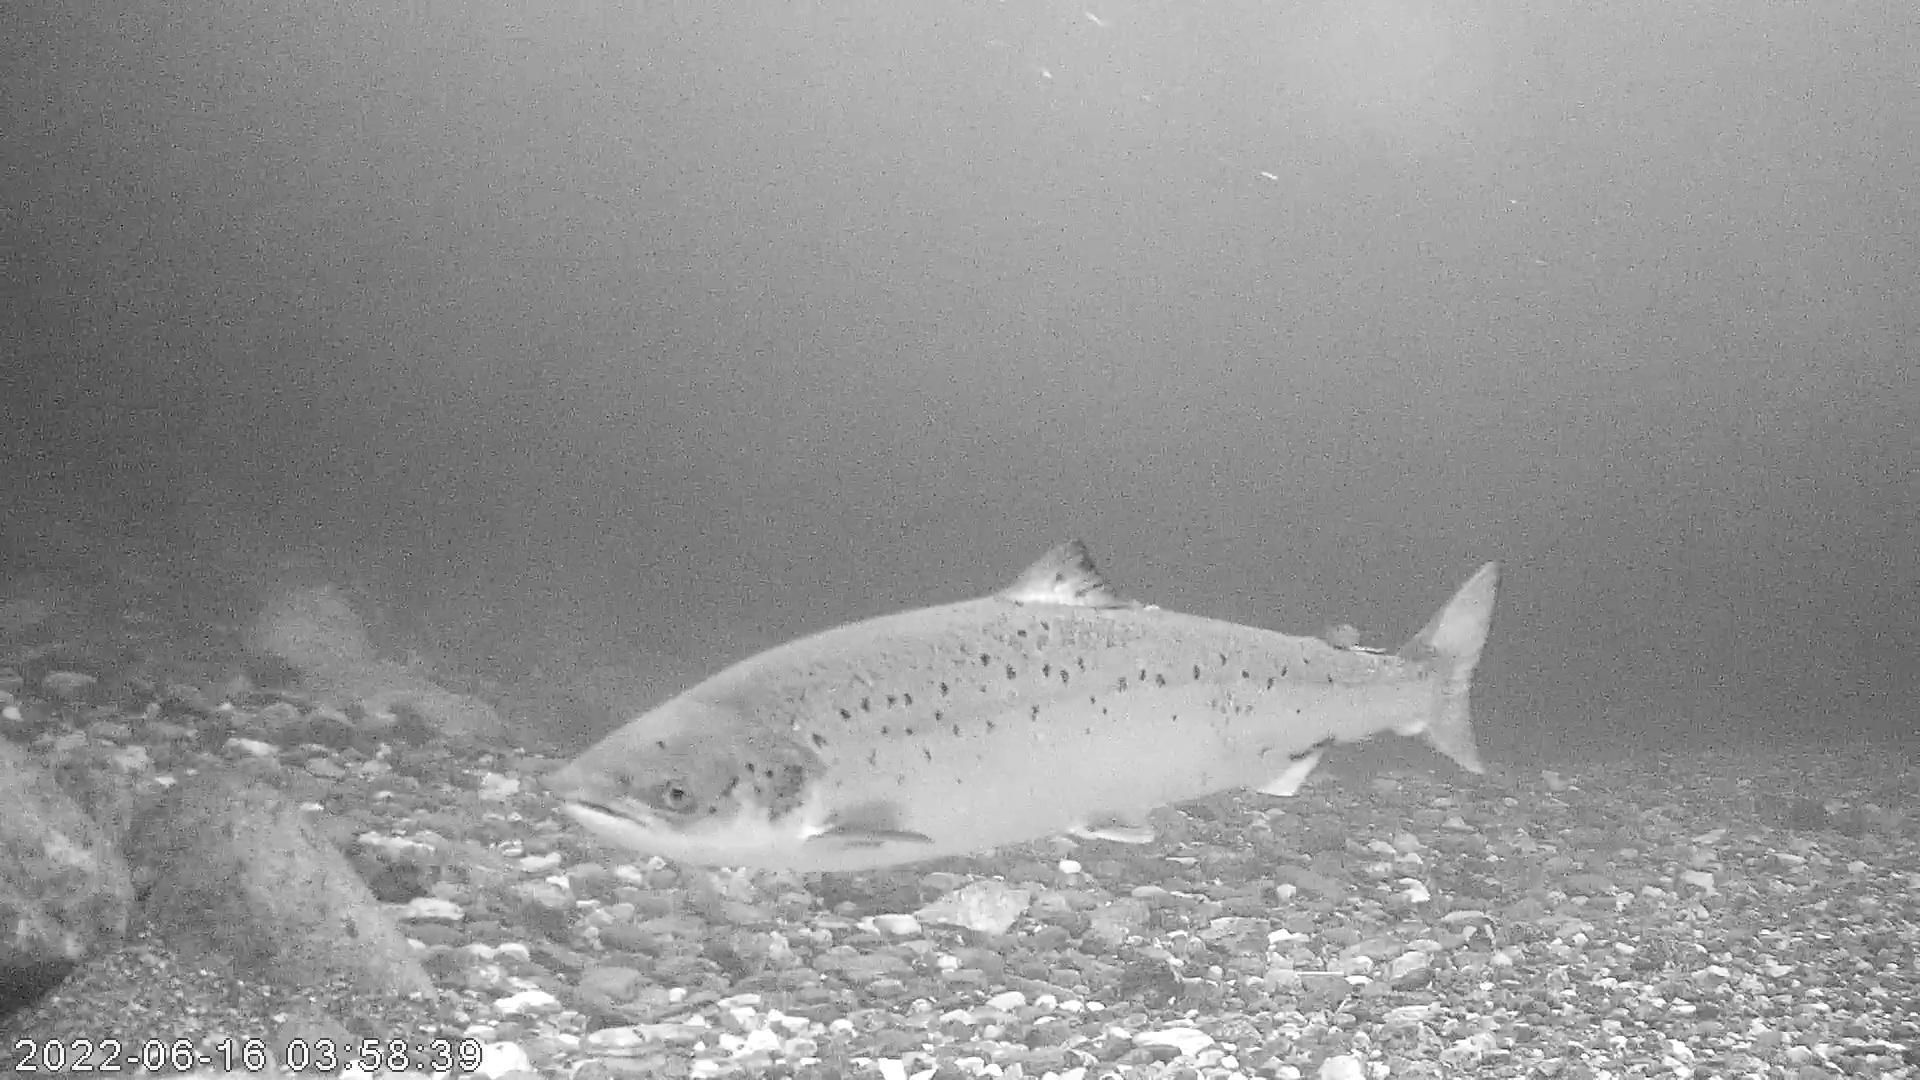salmon: (545, 535, 1501, 872)
